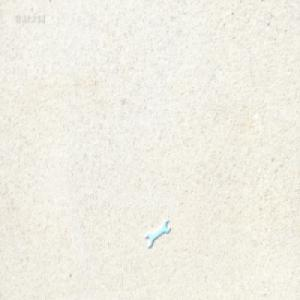Wrench: (145, 220, 169, 249)
